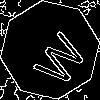W: (25, 25, 90, 90)
